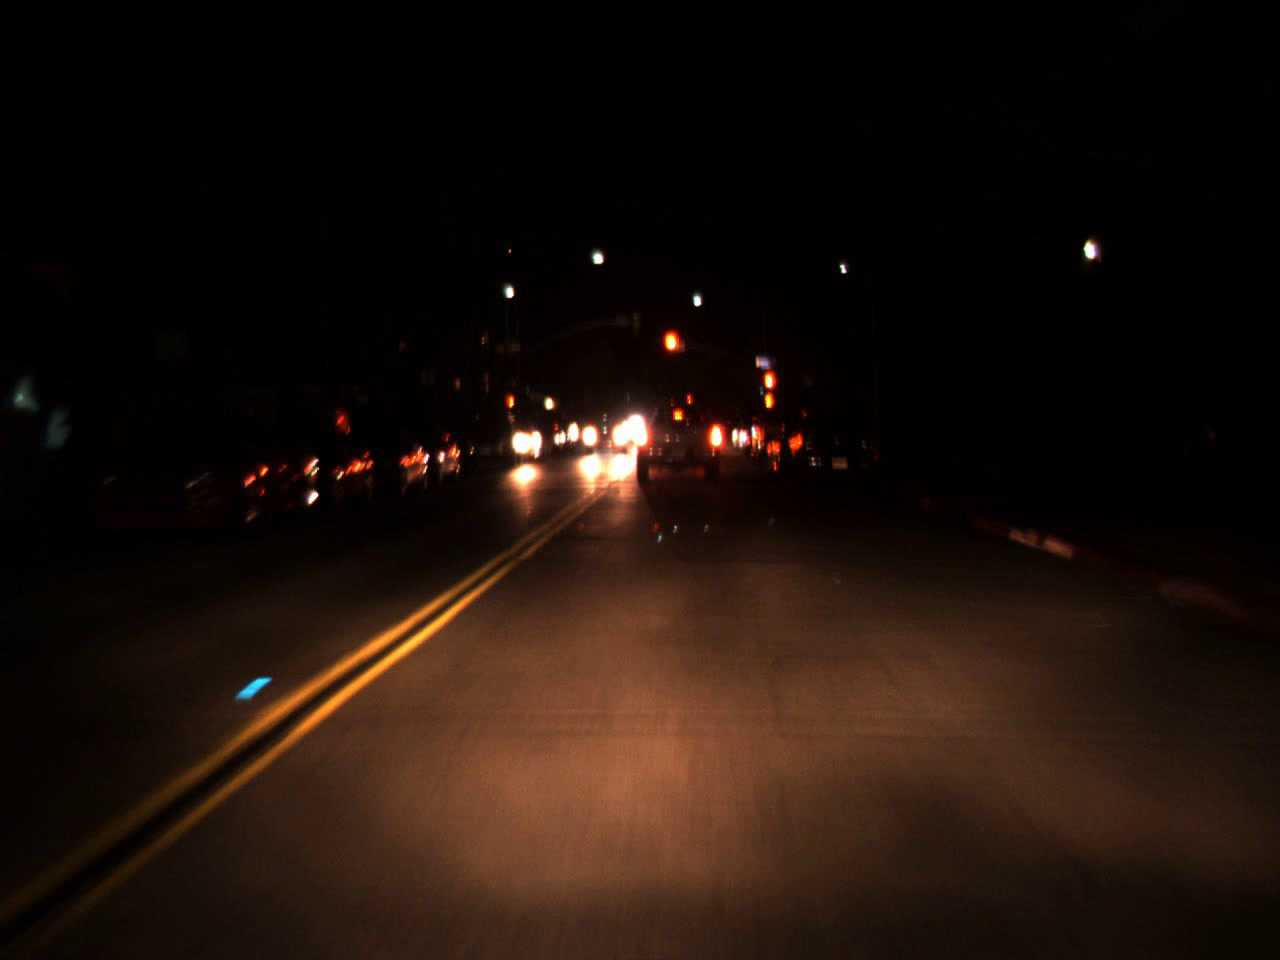stop: (660, 327, 684, 378), (762, 367, 778, 415)
